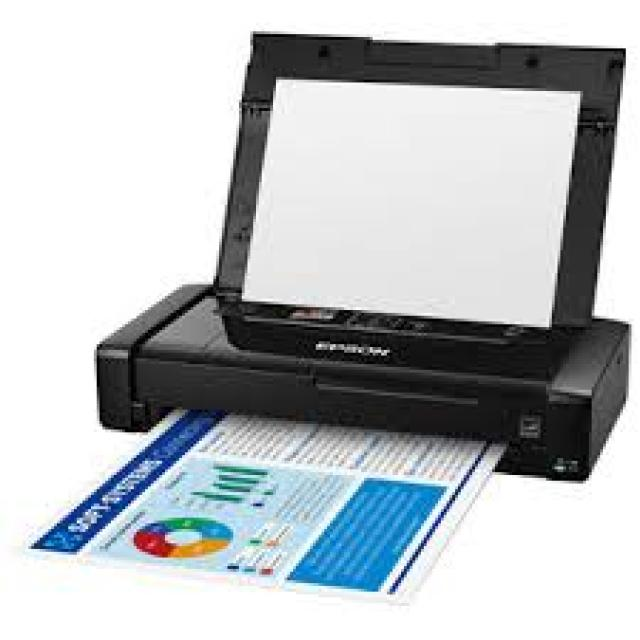printer: (91, 28, 631, 481)
